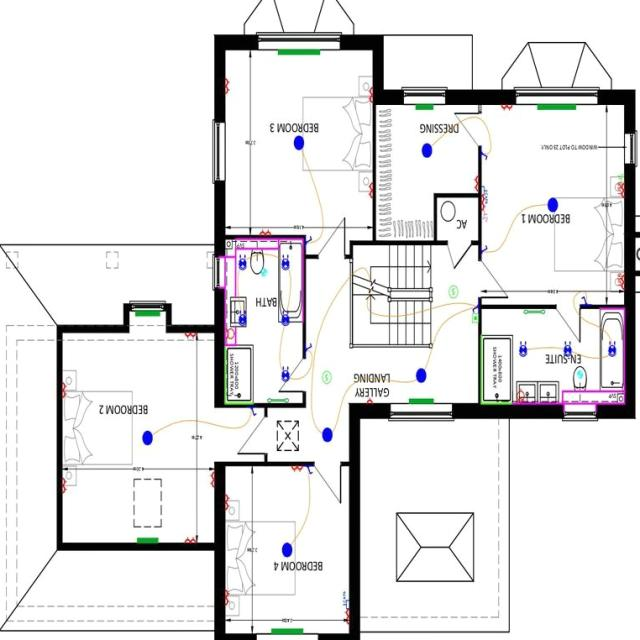Cat 6 Data Socket: (334, 590, 348, 610), (480, 181, 493, 199)
Ceiling Mounted Continuous Extract Fan With Boost Mode Activated By Light Switch: (572, 365, 591, 383), (256, 263, 271, 285)
Co-Ax TV Socket: (480, 211, 492, 225)
Double Socket: (60, 370, 77, 409), (171, 533, 200, 546), (335, 610, 350, 633), (203, 465, 215, 493), (222, 586, 234, 612), (224, 488, 234, 519), (284, 467, 306, 480), (60, 473, 70, 500), (364, 80, 373, 110), (224, 75, 235, 98), (364, 178, 373, 205), (178, 332, 202, 342), (256, 228, 277, 238), (470, 170, 478, 196), (478, 196, 490, 212), (497, 106, 512, 115)
Full Height Tiling: (474, 335, 510, 408), (222, 347, 260, 408)
Light Switch: (303, 338, 315, 361), (243, 408, 261, 423), (304, 468, 317, 485), (304, 231, 315, 250), (579, 293, 592, 309), (466, 298, 476, 317), (479, 145, 489, 163), (480, 242, 490, 258)
Low Energy Downlighter: (277, 364, 293, 391), (558, 336, 576, 360), (605, 336, 620, 360), (278, 306, 294, 328), (279, 250, 292, 276), (234, 253, 250, 274), (236, 307, 250, 329), (518, 339, 530, 361)
Low Energy Pendant Light: (276, 538, 296, 564), (418, 140, 438, 166), (319, 425, 337, 448), (412, 366, 430, 386), (544, 196, 564, 214), (291, 136, 309, 154), (140, 428, 154, 451)
Mains Wired Smoke Detector: (318, 364, 335, 392), (447, 278, 460, 303)
Programmable Room Thermostat: (468, 312, 478, 328)
Radiator: (126, 532, 165, 548), (266, 624, 306, 636), (275, 50, 325, 58), (529, 106, 581, 112), (408, 105, 441, 114), (133, 312, 162, 322), (404, 396, 440, 404)
Shaver Socket: (512, 387, 530, 407), (222, 327, 242, 342)
Single Socket: (362, 394, 380, 406)
Telephone Socket: (613, 172, 623, 186)
USB Double Socket: (615, 270, 624, 292), (616, 185, 623, 202)
